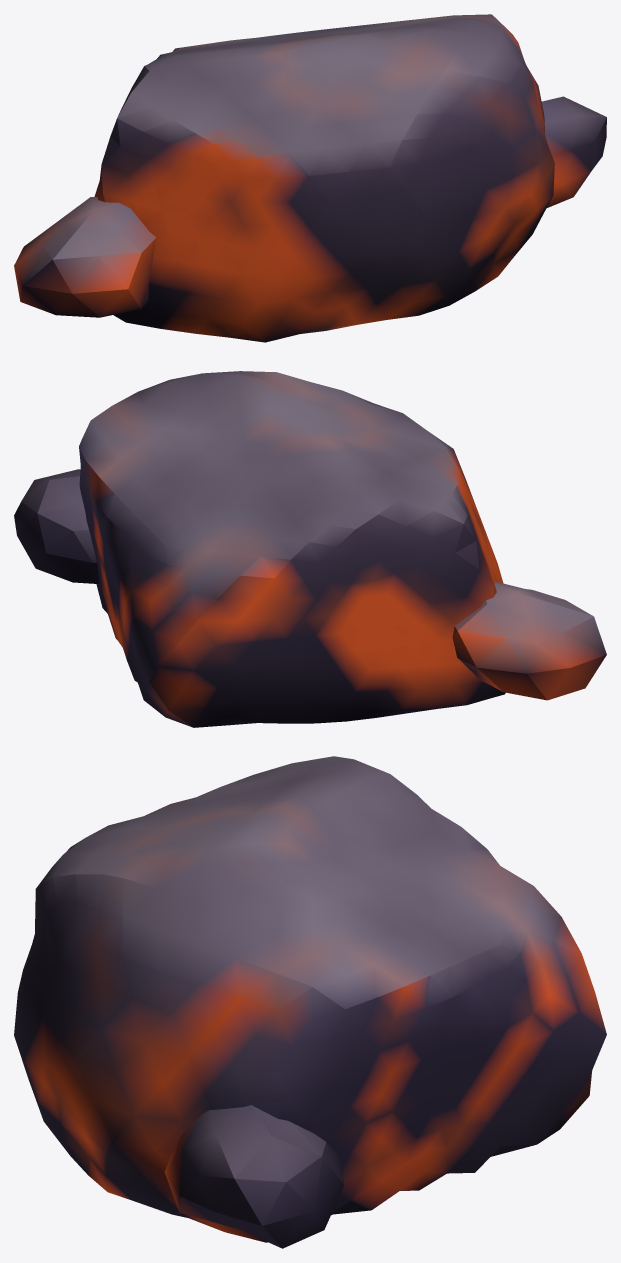
Rendered from ember_rock_chunk_a.glb.
The picture shows the model from 3 angles, top to bottom: view 1: azimuth 30°, elevation 25°; view 2: azimuth 150°, elevation 25°; view 3: azimuth 270°, elevation 25°; orthographic projection. The views are drawn at different scales.
Visible parts, largest first — view 1: ember_rock_chunk_a; view 2: ember_rock_chunk_a; view 3: ember_rock_chunk_a.
Boxes of the visible parts, bbox=[...] form: ember_rock_chunk_a: bbox=[14, 14, 606, 342]; ember_rock_chunk_a: bbox=[14, 371, 606, 727]; ember_rock_chunk_a: bbox=[14, 756, 606, 1248].
Size of the model in its own units: 2.53 by 0.9501 by 1.65.
